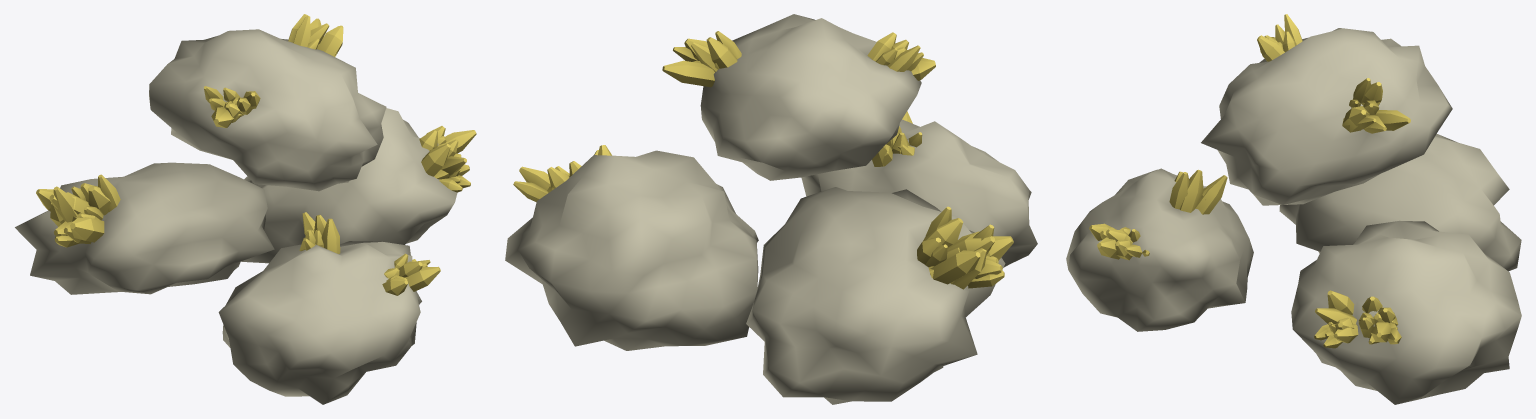
The model's file is sulphur-ore.glb.
The picture shows the model from 3 angles, left to right: view 1: azimuth 30°, elevation 25°; view 2: azimuth 150°, elevation 25°; view 3: azimuth 270°, elevation 25°; orthographic projection. The views are drawn at different scales.
Visible parts, largest first — view 1: Body_LOD0; view 2: Body_LOD0; view 3: Body_LOD0.
Boxes of the visible parts, x1,y1,x2,y2 form: Body_LOD0: [15, 14, 476, 404]; Body_LOD0: [505, 14, 1037, 404]; Body_LOD0: [1066, 14, 1521, 404].
Size of what is drawn, in the model's own units: 0.2611 by 0.1592 by 0.2305.
